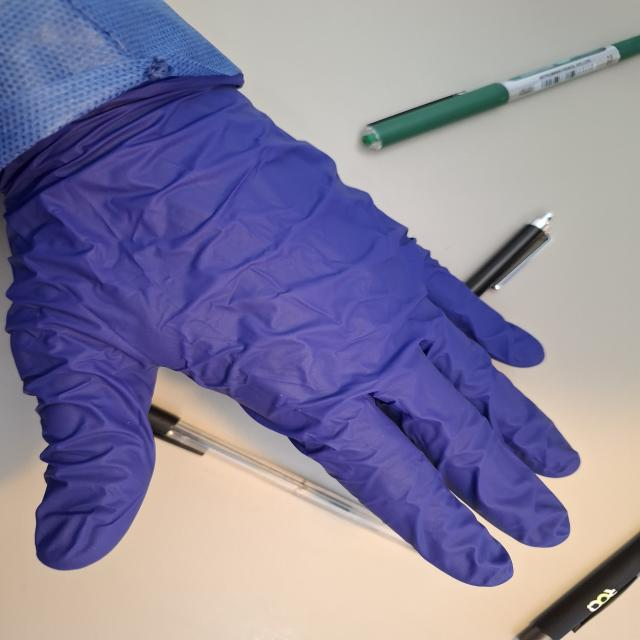glove_on: (2, 69, 584, 590)
